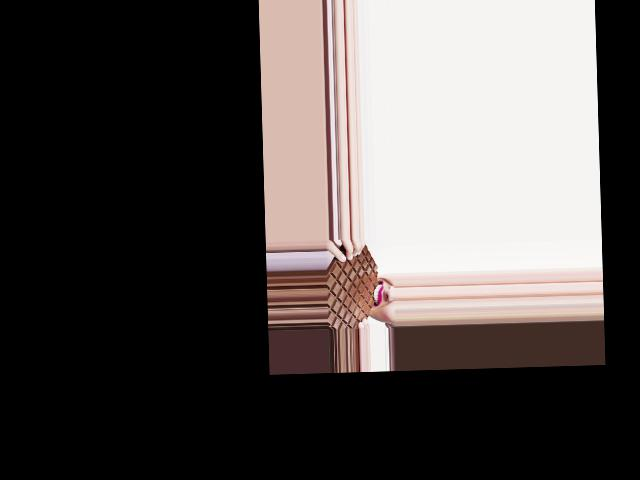chocolate: (325, 237, 381, 329)
